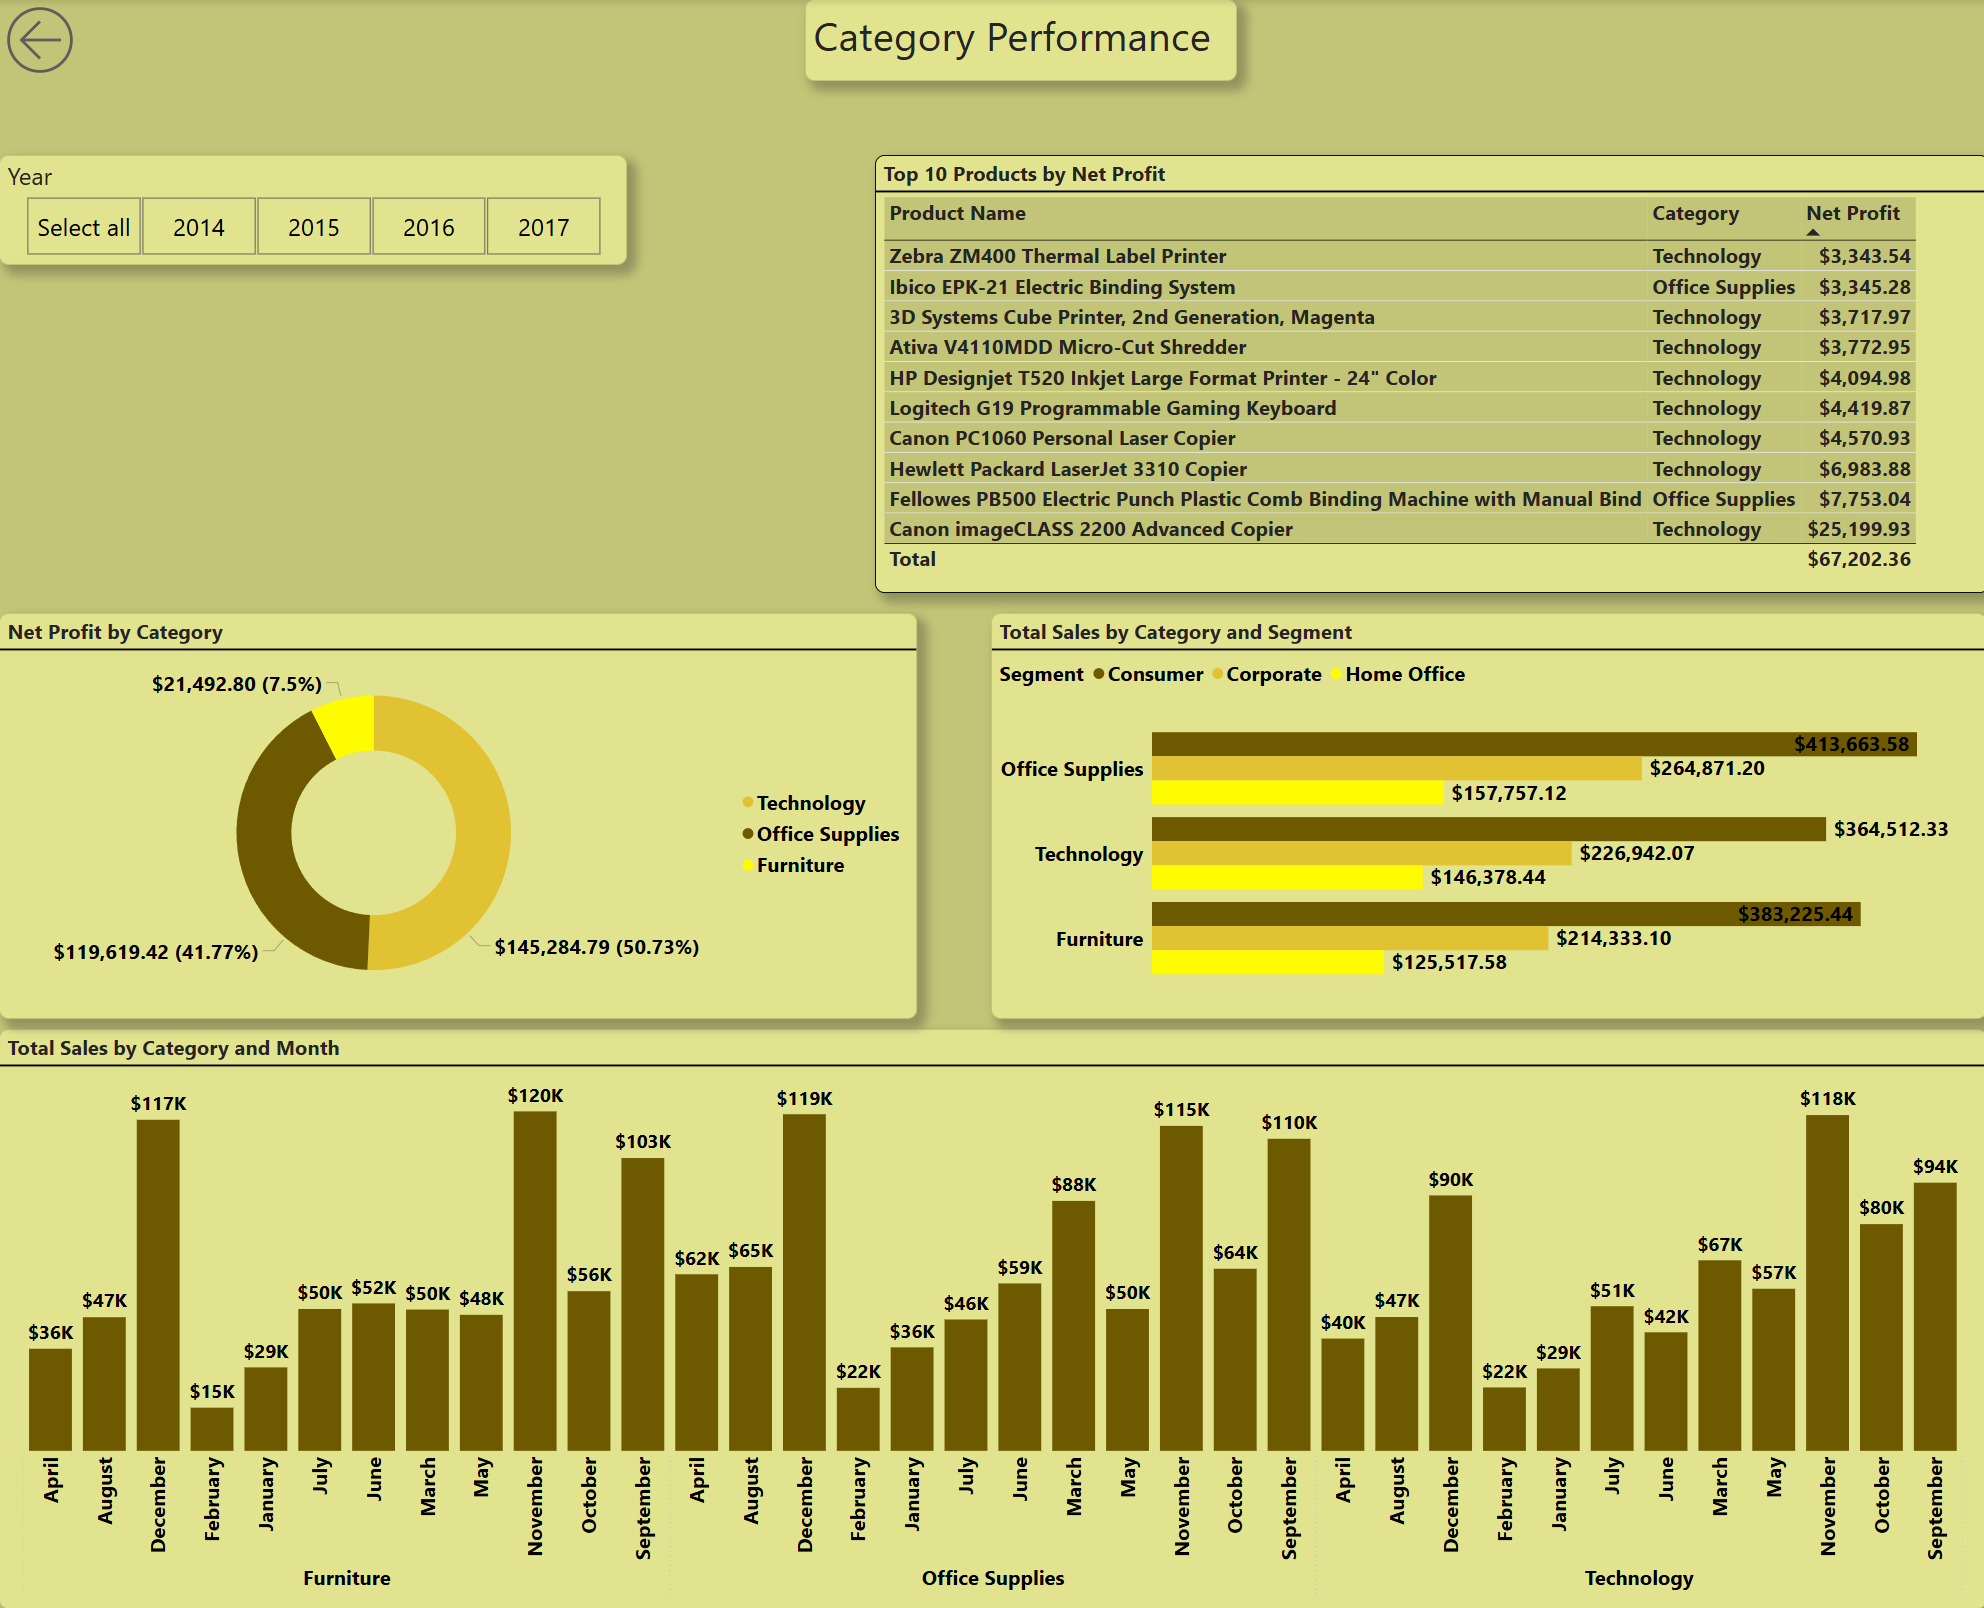

What the dashboard file says about the page in this screenshot:
{"tool":"powerbi","page":{"name":"Category Performance","canvas":[2100,1700],"ordinal":4},"visuals":[{"type":"lineStackedColumnComboChart","fields":{"Category":["DimProduct.Category","Calendar.Year Hierarchy.Month"],"Y":["MeasuresTable.Total Sales"]},"box":[0,1087.6,2099.1,612.4],"z":0},{"type":"textbox","box":[851.1,0,456.1,86.6],"z":1000},{"type":"tableEx","title":"Top 10 Products by Net Profit","fields":{"Values":["DimProduct.Product Name","DimProduct.Category","MeasuresTable.Net Profit"]},"box":[925,164.7,1176.3,462.5],"z":2000},{"type":"donutChart","fields":{"Y":["MeasuresTable.Net Profit"],"Category":["DimProduct.Category"]},"box":[0,648.3,969.3,428.7],"z":3000},{"type":"clusteredBarChart","fields":{"Category":["DimProduct.Category"],"Series":["DimCustomer.Segment"],"Y":["MeasuresTable.Total Sales"]},"box":[1047.5,648.3,1051.7,428.7],"z":4000},{"type":"actionButton","box":[0,0,133,86.6],"z":5000},{"type":"slicer","title":"Year","fields":{"Values":["Calendar.Year Hierarchy.Year"]},"box":[0,164.7,663.1,116.1],"z":5001}]}

Visuals, with their boxes in screenshot pixels (x1, y1, x2, y2), scaled from the page's 2100x1700 canvas onto the 1984x1608 screenshot:
lineStackedColumnComboChart - DimProduct.Category x Calendar.Year Hierarchy.Month: bbox(0, 1029, 1983, 1607)
textbox: bbox(804, 0, 1235, 82)
"Top 10 Products by Net Profit" tableEx: bbox(874, 156, 1983, 593)
donutChart - MeasuresTable.Net Profit x DimProduct.Category: bbox(0, 613, 916, 1019)
clusteredBarChart - DimProduct.Category x DimCustomer.Segment: bbox(990, 613, 1983, 1019)
actionButton: bbox(0, 0, 126, 82)
"Year" slicer: bbox(0, 156, 626, 266)
